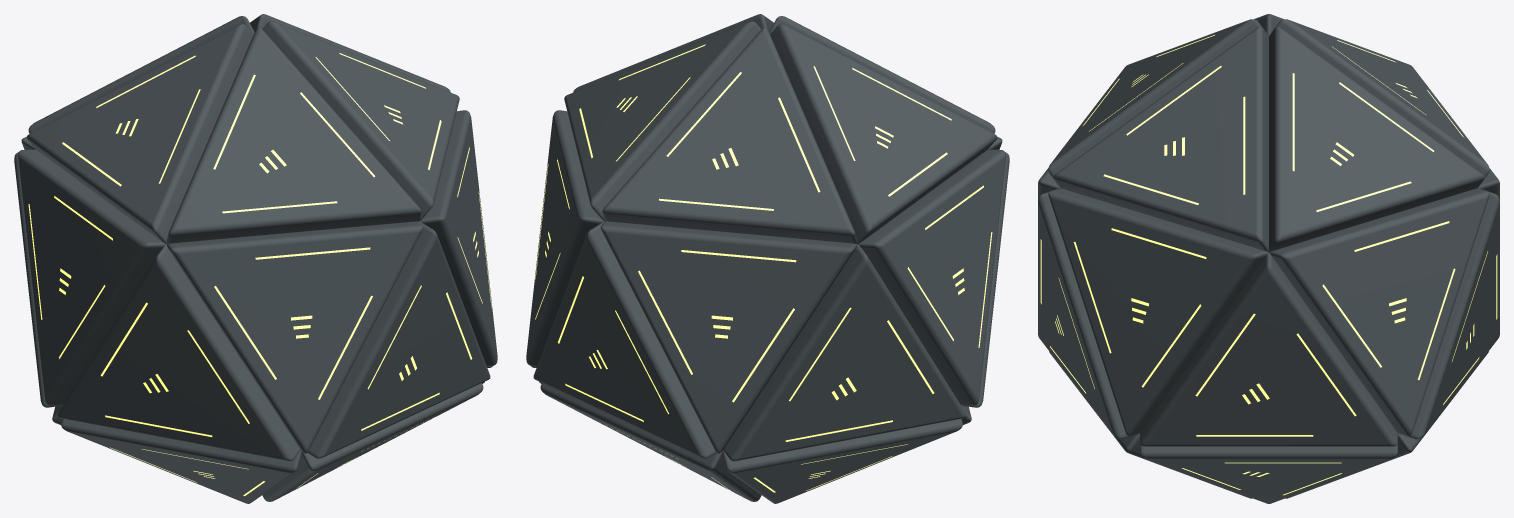
The model's file is vault-relic.glb.
3 renders of one model, left to right at view 1: azimuth 30°, elevation 25°; view 2: azimuth 150°, elevation 25°; view 3: azimuth 270°, elevation 25°, orthographic.
Parts seen in each view (by area): view 1: Armor_11, Armor_16, Armor_07, Armor_17, Armor_12, Armor_06, Armor_15, Armor_10, Armor_02, Armor_00, Armor_18, Armor_08 (+8 smaller); view 2: Armor_13, Armor_18, Armor_08, Armor_17, Armor_12, Armor_09, Armor_19, Armor_14, Armor_03, Armor_04, Armor_16, Armor_07 (+8 smaller); view 3: Armor_05, Armor_14, Armor_10, Armor_19, Armor_15, Armor_01, Armor_06, Armor_09, Armor_16, Armor_18, Circuit_19, Circuit_14 (+5 smaller).
Boxes of the visible parts, <box> form: Armor_11: <box>167,221,423,453</box>; Armor_16: <box>166,27,421,243</box>; Armor_07: <box>57,244,300,461</box>; Armor_17: <box>26,24,253,243</box>; Armor_12: <box>18,149,166,405</box>; Armor_06: <box>307,222,490,458</box>; Armor_15: <box>262,21,459,221</box>; Armor_10: <box>419,110,497,366</box>; Armor_02: <box>61,419,301,503</box>; Armor_00: <box>262,383,483,501</box>; Armor_18: <box>28,16,254,133</box>; Armor_08: <box>14,152,62,407</box>; Armor_13: <box>600,221,856,453</box>; Armor_18: <box>602,27,857,243</box>; Armor_08: <box>723,244,966,461</box>; Armor_17: <box>770,24,997,243</box>; Armor_12: <box>857,149,1005,405</box>; Armor_09: <box>533,222,716,458</box>; Armor_19: <box>564,21,761,221</box>; Armor_14: <box>526,110,604,366</box>; Armor_03: <box>722,419,962,503</box>; Armor_04: <box>540,383,761,501</box>; Armor_16: <box>769,16,995,133</box>; Armor_07: <box>961,152,1009,407</box>; Armor_05: <box>1140,253,1397,446</box>; Armor_14: <box>1269,188,1489,436</box>; Armor_10: <box>1048,188,1268,436</box>; Armor_19: <box>1269,26,1483,251</box>; Armor_15: <box>1054,26,1268,251</box>; Armor_01: <box>1140,444,1397,503</box>; Armor_06: <box>1038,192,1137,439</box>; Armor_09: <box>1400,192,1499,439</box>; Armor_16: <box>1048,19,1261,184</box>; Armor_18: <box>1276,19,1489,184</box>; Circuit_19: <box>1292,73,1434,211</box>; Circuit_14: <box>1322,221,1455,379</box>.
Size of the model in its own units: 1.78 by 1.93 by 1.7.
